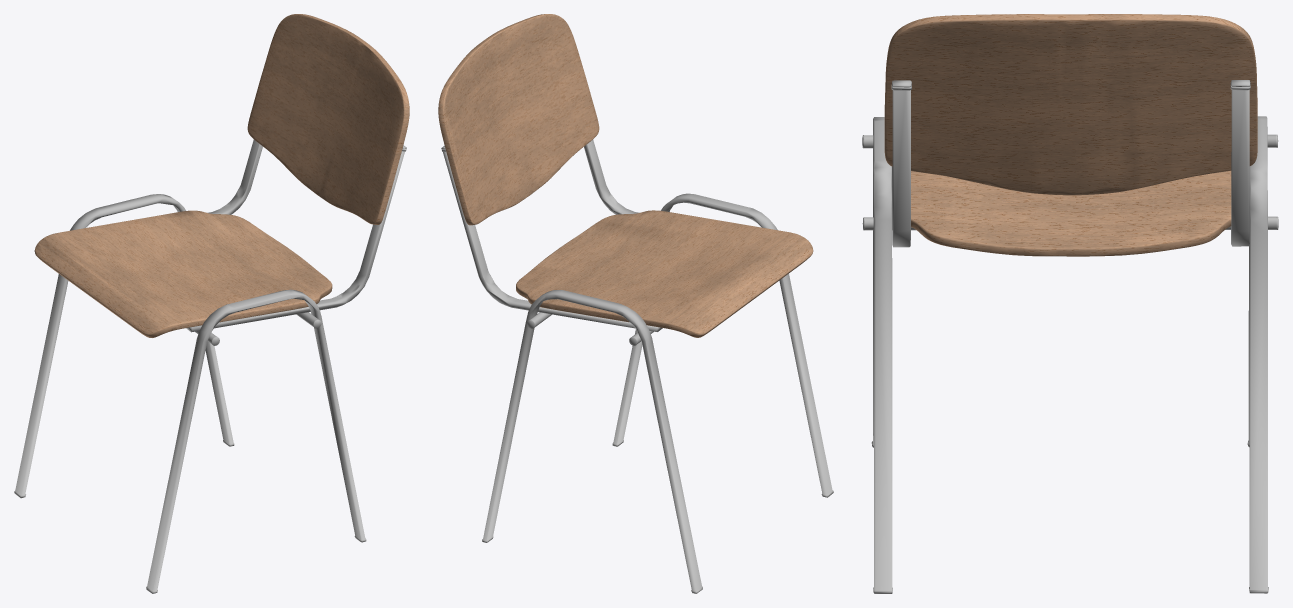
The model's file is school_chair_1.glb.
The picture shows the model from 3 angles, left to right: view 1: azimuth 30°, elevation 25°; view 2: azimuth 150°, elevation 25°; view 3: azimuth 270°, elevation 25°; orthographic projection. The views are drawn at different scales.
Parts seen in each view (by area): view 1: Plane.031; view 2: Plane.031; view 3: Plane.031.
Boxes of the visible parts, box(x1,y1,x2,y2) form: Plane.031: box(14, 14, 409, 593); Plane.031: box(438, 14, 833, 593); Plane.031: box(862, 14, 1278, 593).
Size of the model in its own units: 0.7022 by 1.03 by 0.6251.
1 material, 1 textured.
